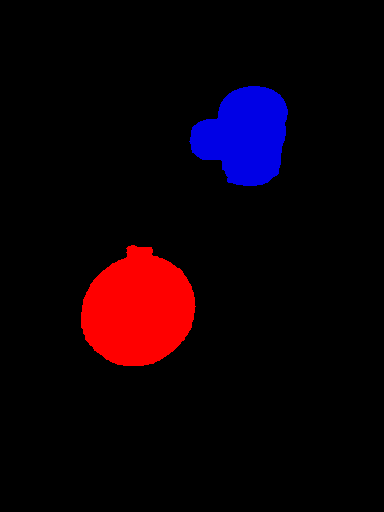cup: (189, 84, 289, 186)
speaker: (79, 247, 196, 373)
